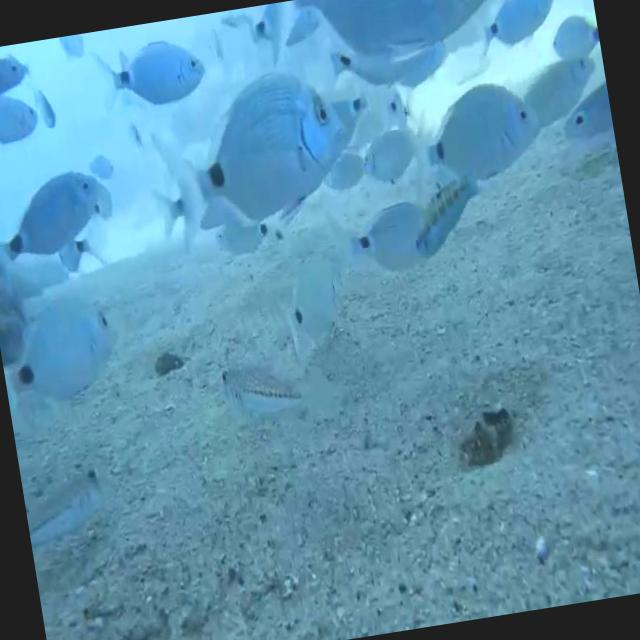Balon Baligi: (21, 466, 114, 544), (405, 172, 488, 259), (220, 357, 305, 421)
